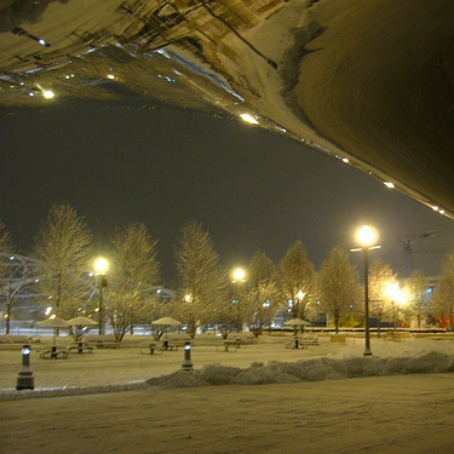light pole: (350, 225, 390, 365)
tree: (22, 203, 100, 351), (150, 222, 233, 348), (89, 220, 163, 351), (225, 243, 277, 337), (271, 238, 323, 332), (313, 241, 365, 335)
